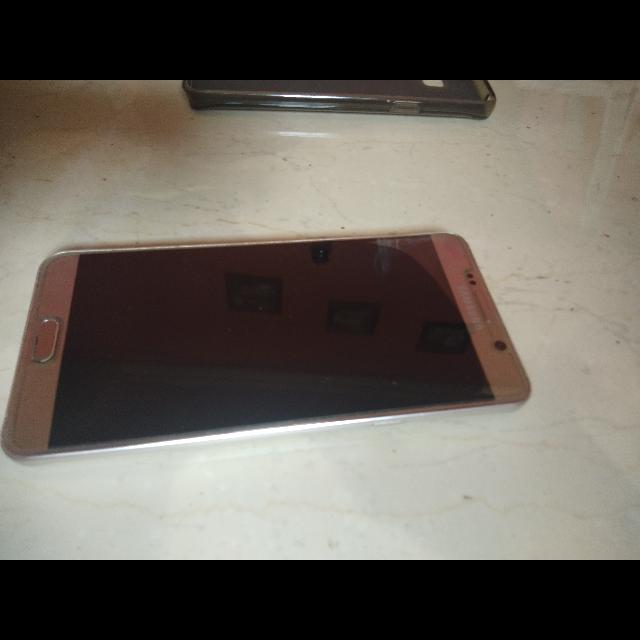Smartphone: (1, 215, 547, 473)
